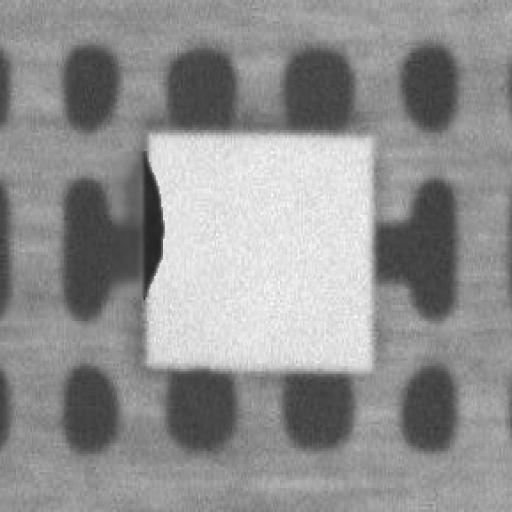DIE_BROKEN: (138, 146, 165, 294)
